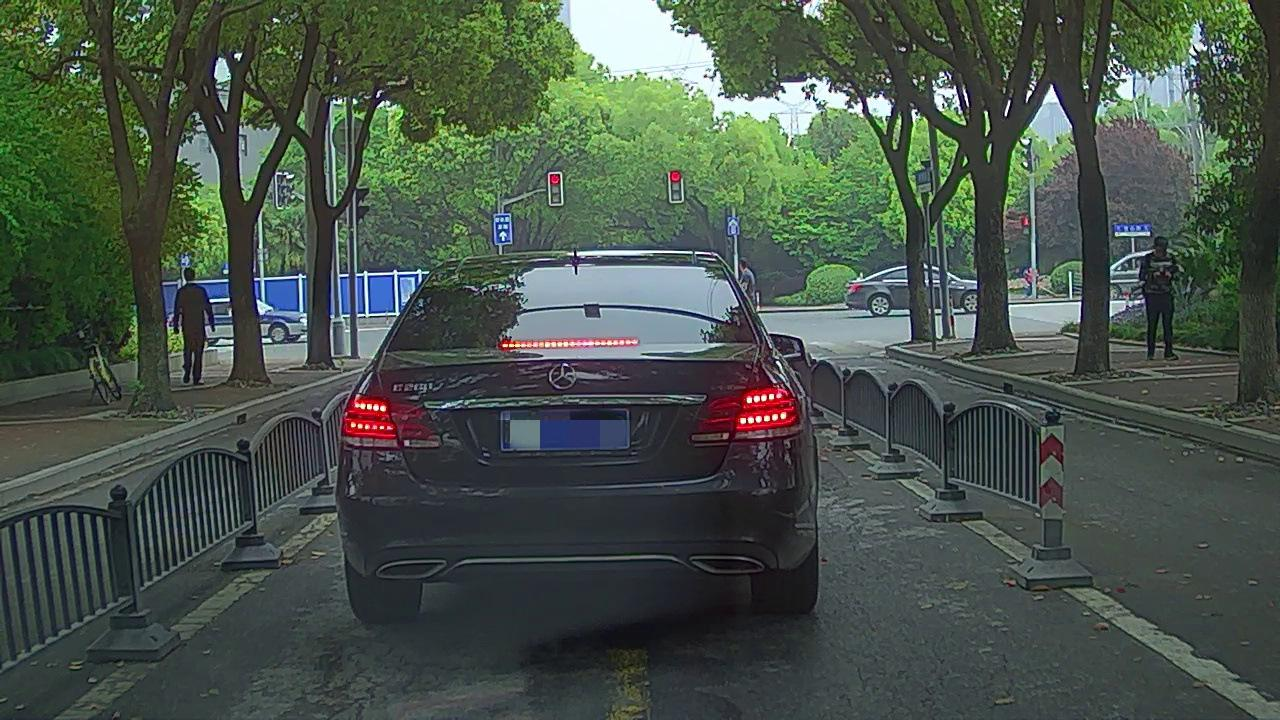traffic_light: (670, 170, 682, 202), (549, 174, 561, 204)
